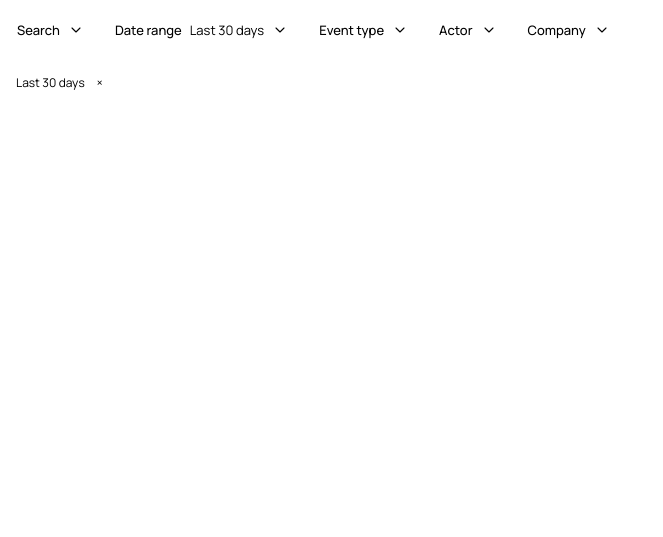
Test: AuditFilterCard: event type › auditFilterCard_accountGroupFollowsMemberships
Click the button with test id "audit-event-trigger" at (364, 30), box [308, 13, 419, 47]
(page scrolled)
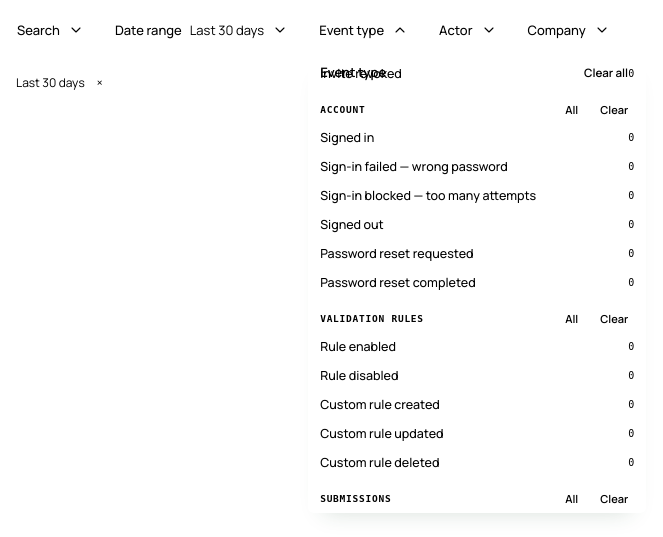
Expected: the text with test id "audit-event-group-account-heading" reads "Account", [320, 104, 366, 115]
Expected: the button with test id "audit-event-row-account.signed_out" is shown, [308, 210, 646, 239]
